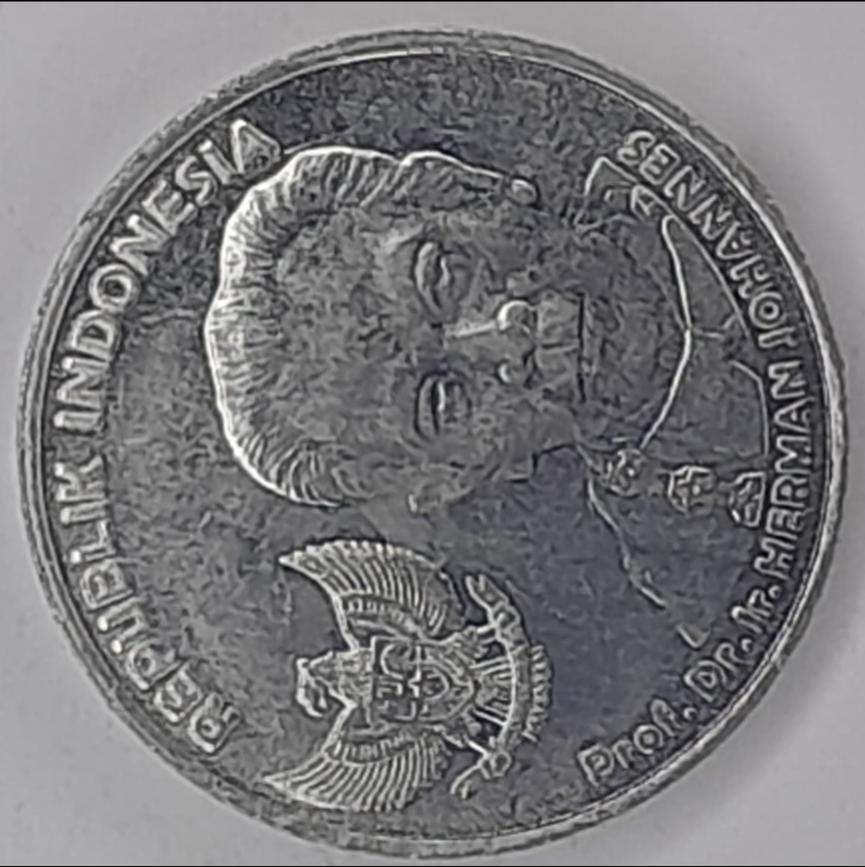coin_100_e2016: (11, 21, 853, 861)
